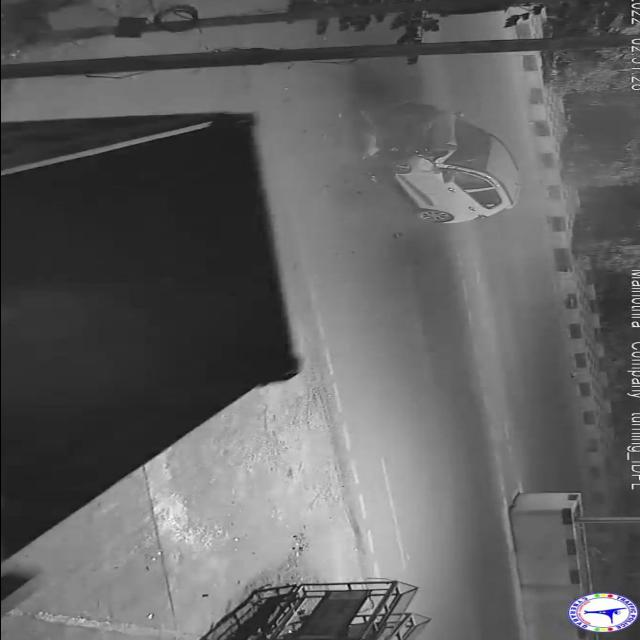accident: (360, 93, 535, 231)
